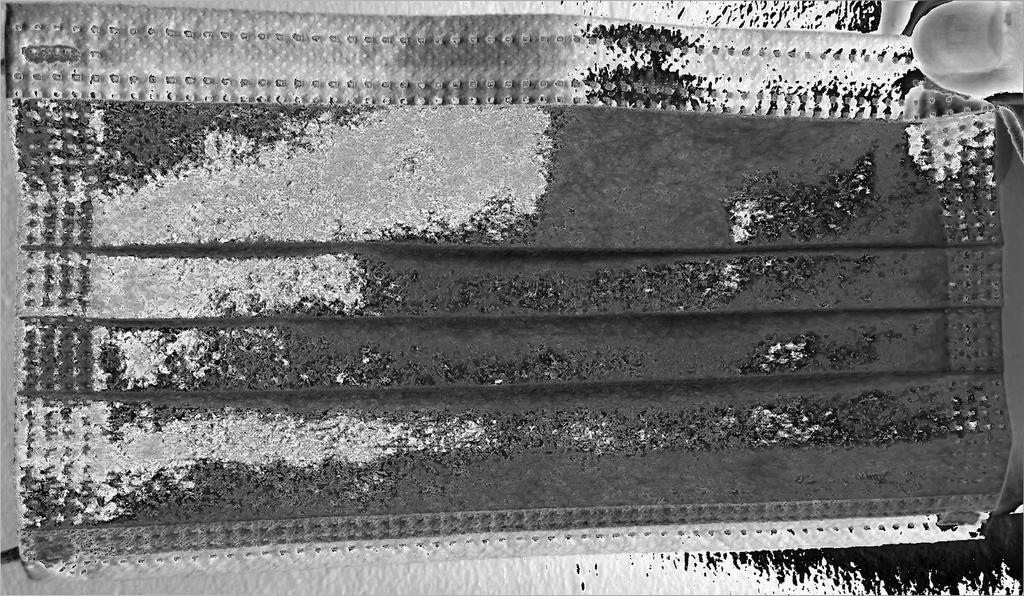Low GSM: (94, 99, 944, 512)
